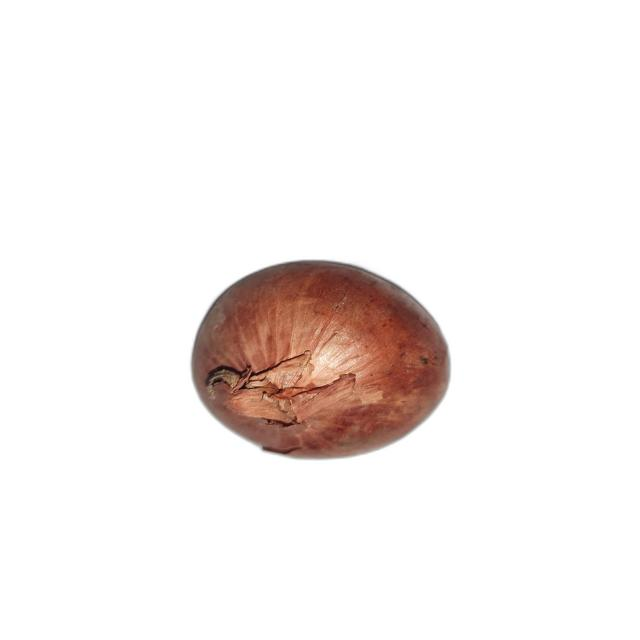onion: (189, 260, 450, 459)
